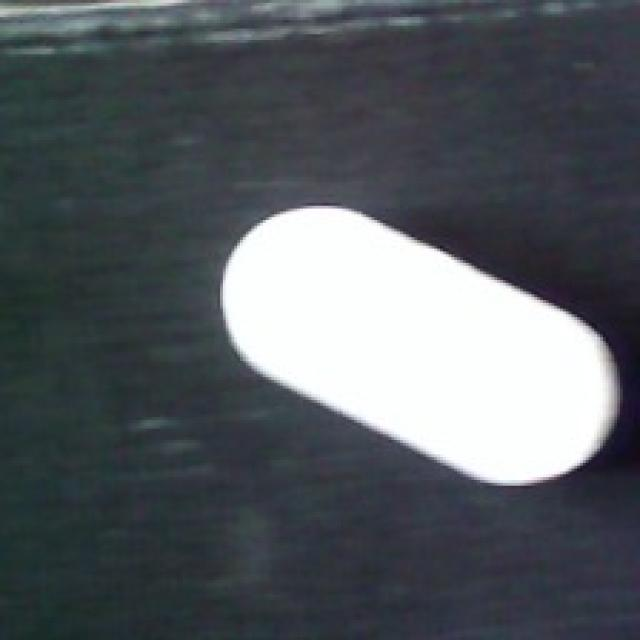no-defect: (214, 202, 626, 494)
